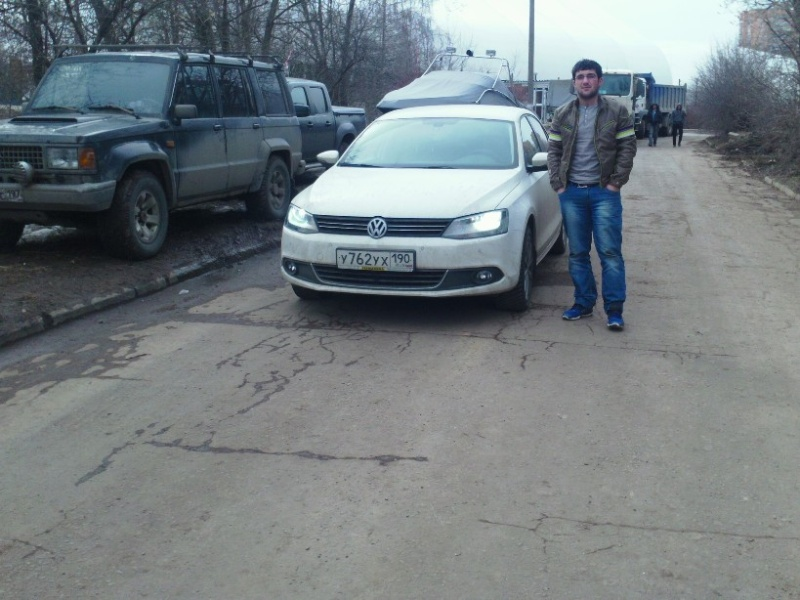car: (2, 53, 300, 254), (279, 104, 569, 306), (284, 77, 364, 172), (600, 71, 686, 137)
person: (546, 59, 638, 327), (670, 102, 686, 146), (646, 103, 662, 146)
